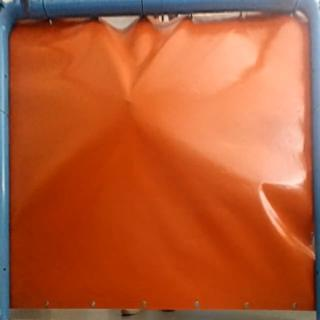Hit-hRxx: (120, 92, 135, 106)
